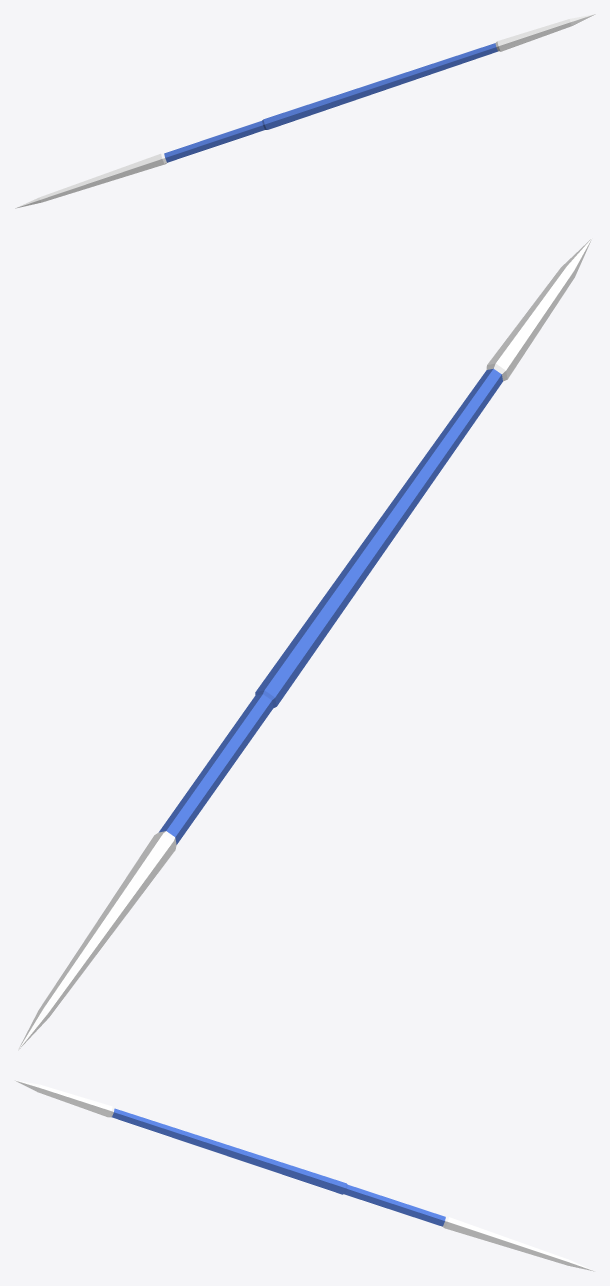
Rendered from jav.glb.
The picture shows the model from 3 angles, top to bottom: view 1: azimuth 90°, elevation 25°; view 2: azimuth 150°, elevation 25°; view 3: azimuth 270°, elevation 25°; orthographic projection. The views are drawn at different scales.
Parts seen in each view (by area): view 1: Javelin.obj_Iron_0; view 2: Javelin.obj_Iron_0; view 3: Javelin.obj_Iron_0.
Boxes of the visible parts, <box> form: Javelin.obj_Iron_0: <box>15,14,595,208</box>; Javelin.obj_Iron_0: <box>18,238,592,1050</box>; Javelin.obj_Iron_0: <box>15,1080,594,1271</box>.
Bounding box in the file's own units: 0.0309 × 0.4833 × 1.32.
